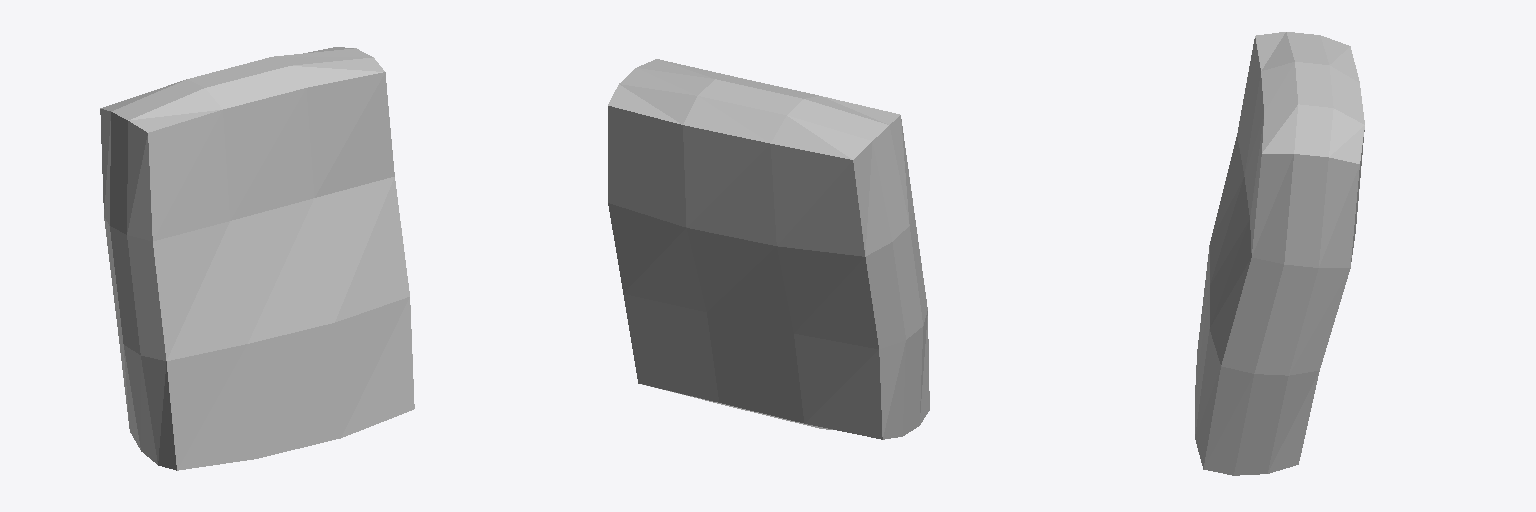
File: toilet_tank_1.obj
The picture shows the model from 3 angles: view 1: azimuth 30°, elevation 25°; view 2: azimuth 150°, elevation 25°; view 3: azimuth 270°, elevation 25°; orthographic projection.
Size of the model in its own units: 7.18 by 8.77 by 3.91.